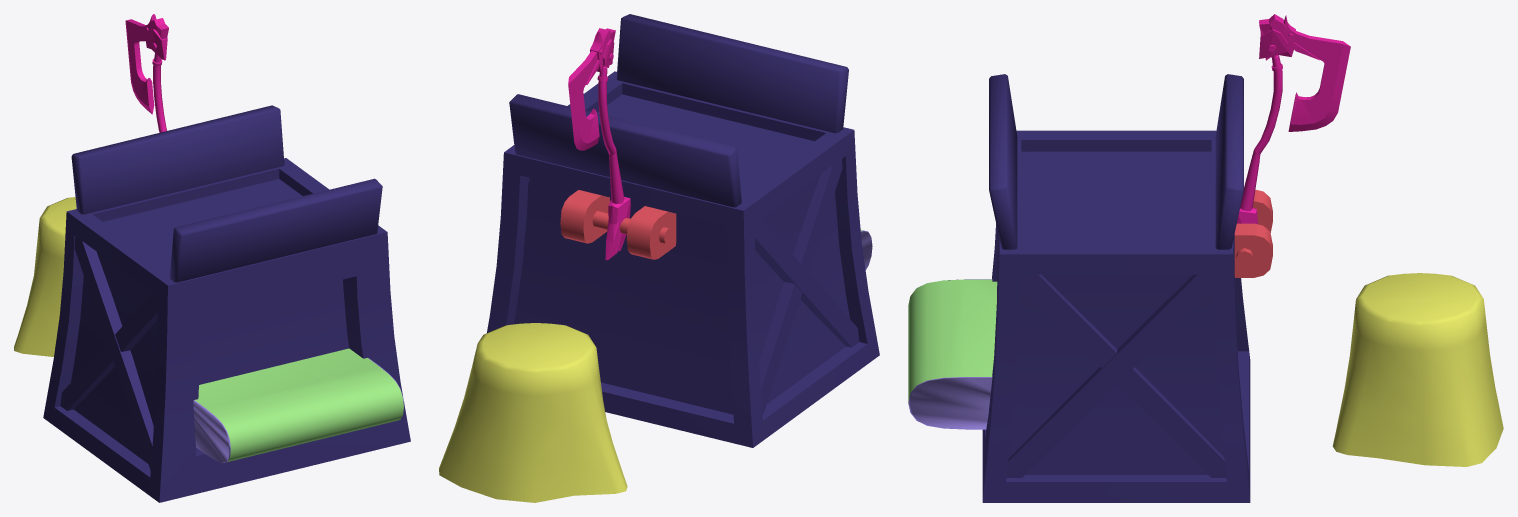
The model's file is woodcuter.fbx.
3 renders of one model, left to right at view 1: azimuth 30°, elevation 25°; view 2: azimuth 150°, elevation 25°; view 3: azimuth 270°, elevation 25°, orthographic. The views are drawn at different scales.
Parts seen in each view (by area): view 1: Cube.002, Cube.003; view 2: Cube.002, Cube.003; view 3: Cube.002, Cube.003.
Boxes of the visible parts, x1,y1,x2,y2 form: Cube.002: (14, 105, 410, 502); Cube.003: (125, 14, 168, 132); Cube.002: (439, 14, 879, 502); Cube.003: (568, 28, 630, 260); Cube.002: (908, 74, 1503, 502); Cube.003: (1237, 14, 1350, 224).
Size of the model in its own units: 96 by 132 by 171.
